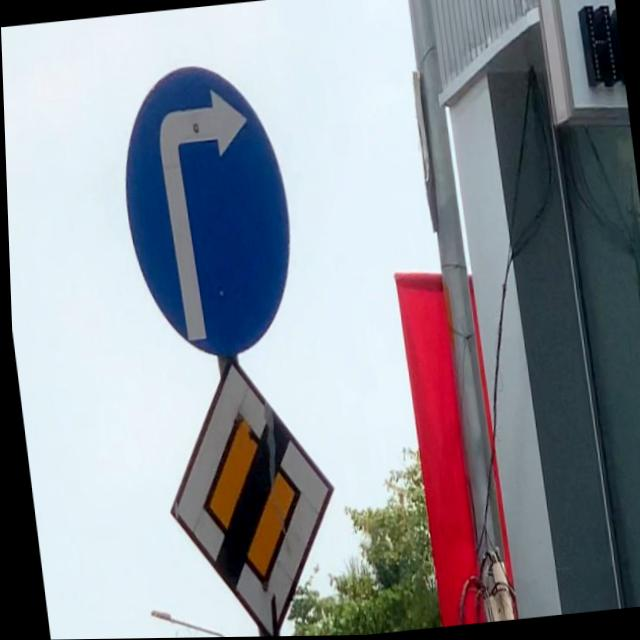Cac xe chi duoc re phai: (109, 57, 304, 366)
